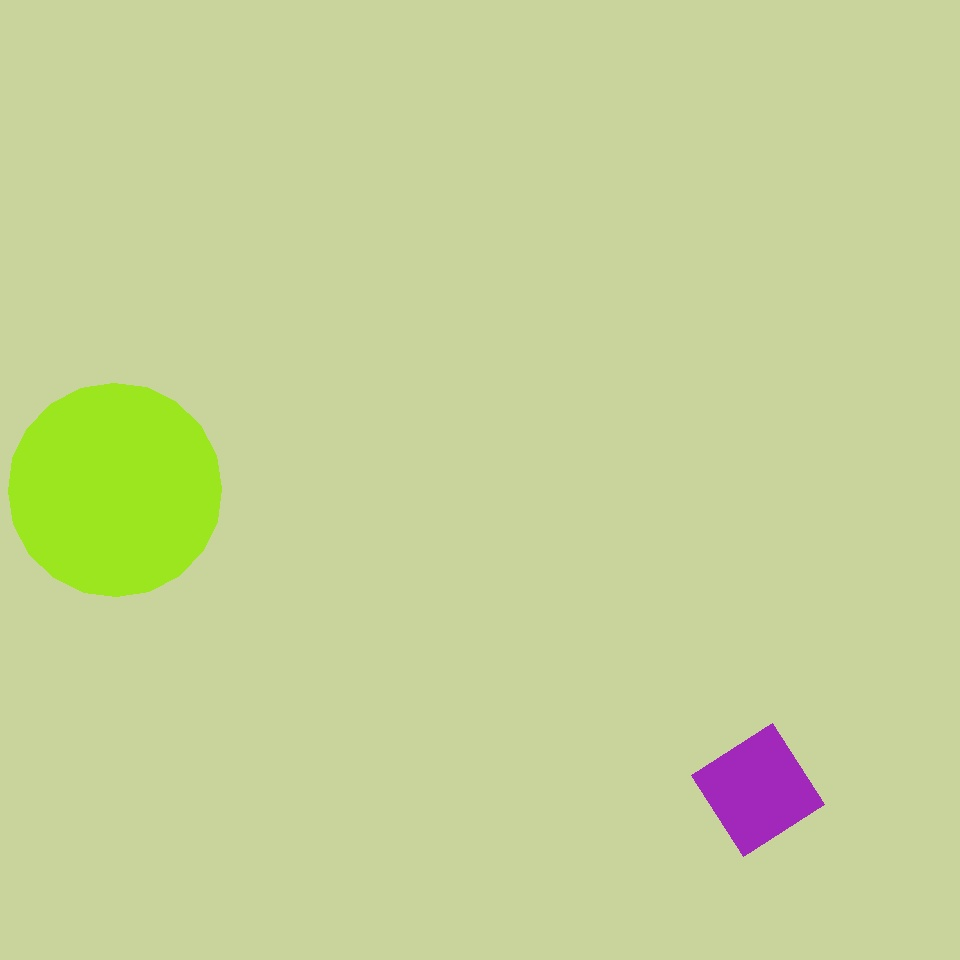square: (691, 724, 824, 856)
triangle: (9, 383, 222, 596)
